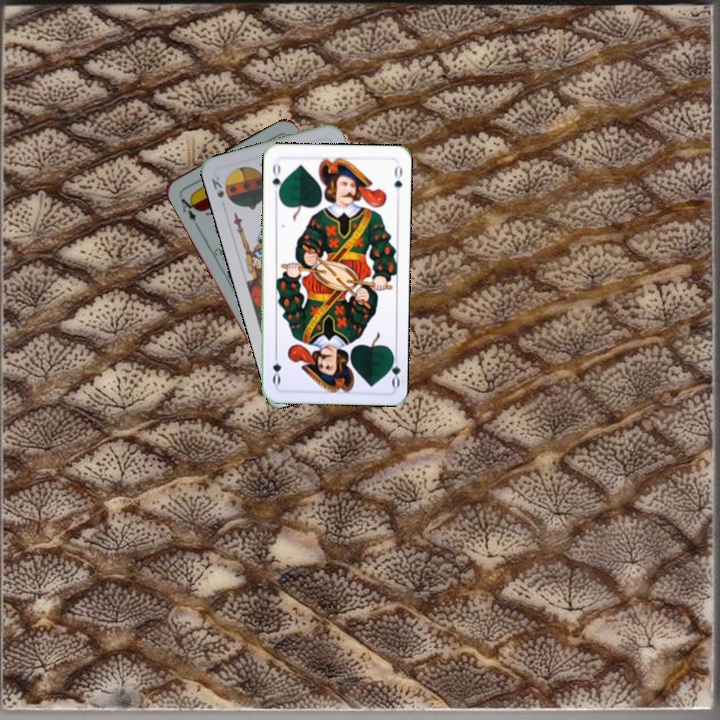EA: (175, 191, 201, 228)
GO: (383, 349, 403, 389), (268, 158, 286, 199)
SK: (207, 172, 227, 201)
